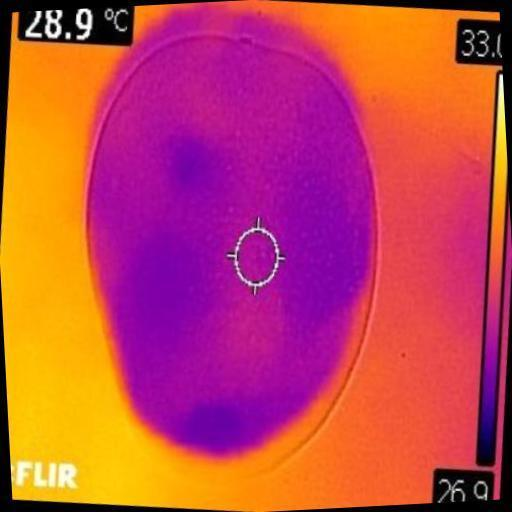alphanso: (90, 36, 372, 471)
